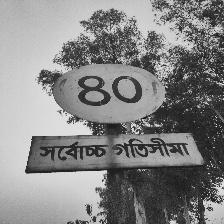Speed-limit: (21, 61, 206, 169)
